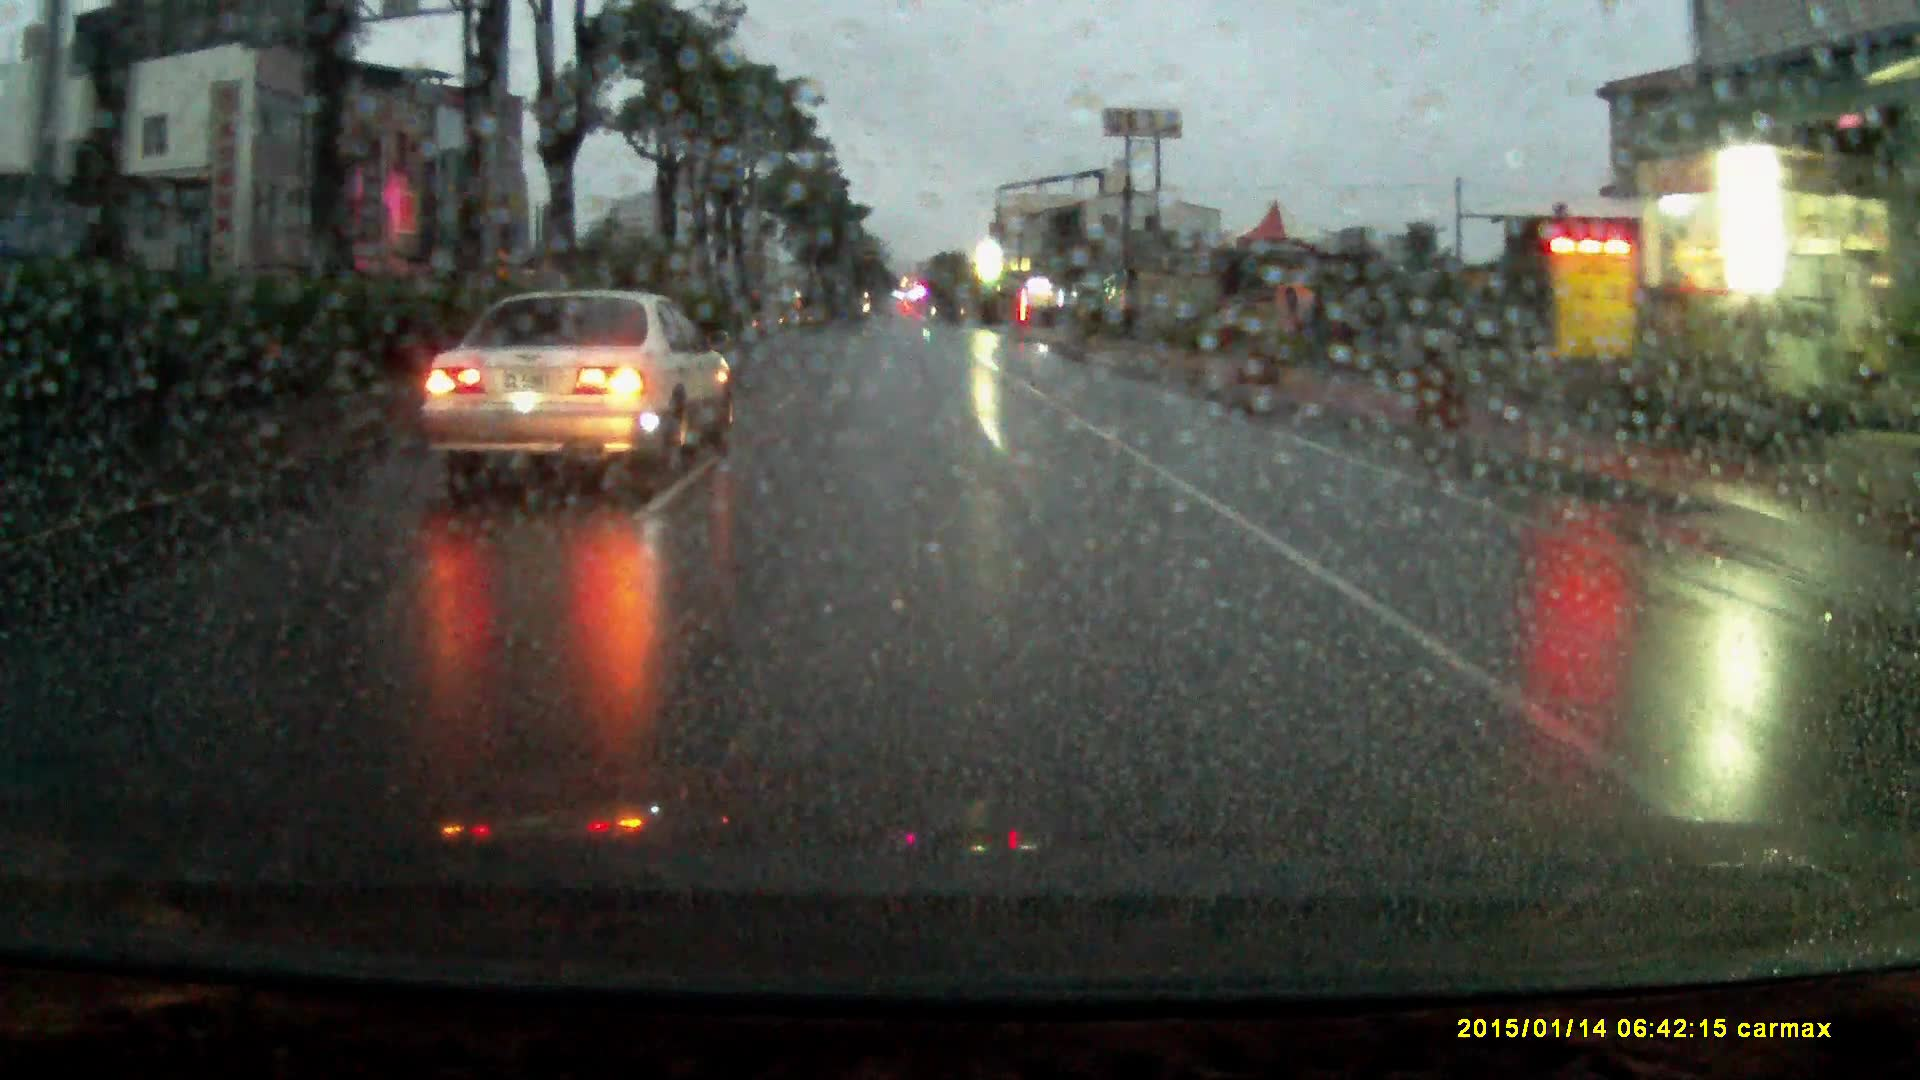vehicle: (423, 287, 746, 498)
